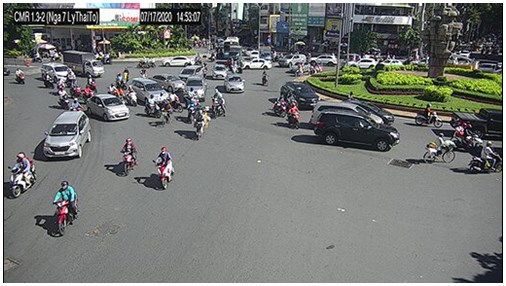xe_dap: (425, 132, 455, 165)
xe_hoi: (313, 112, 400, 153), (44, 111, 91, 159), (313, 101, 384, 128), (346, 97, 396, 126), (87, 94, 130, 120), (282, 81, 319, 111), (132, 77, 169, 103), (41, 61, 76, 82), (154, 74, 186, 91), (186, 76, 206, 101), (279, 53, 306, 68), (225, 73, 245, 93), (308, 53, 338, 66), (243, 57, 272, 70), (161, 56, 193, 67), (346, 58, 376, 69), (180, 65, 203, 79), (212, 63, 228, 80), (379, 58, 403, 68)
xe_may: (54, 180, 79, 237), (9, 152, 37, 198), (469, 140, 505, 173), (450, 123, 484, 153), (154, 147, 175, 191), (414, 102, 443, 129), (119, 138, 139, 176), (211, 89, 227, 119), (194, 108, 207, 141), (145, 94, 161, 117), (288, 103, 301, 130), (57, 85, 70, 110), (85, 73, 99, 93), (126, 85, 139, 106), (275, 94, 286, 117), (170, 92, 182, 113), (15, 66, 26, 85), (70, 96, 82, 112), (83, 83, 93, 102), (43, 71, 54, 88), (137, 56, 150, 69), (122, 67, 130, 84), (107, 82, 116, 96), (295, 64, 304, 78), (262, 70, 269, 86)
xe_tai: (62, 49, 104, 77)
